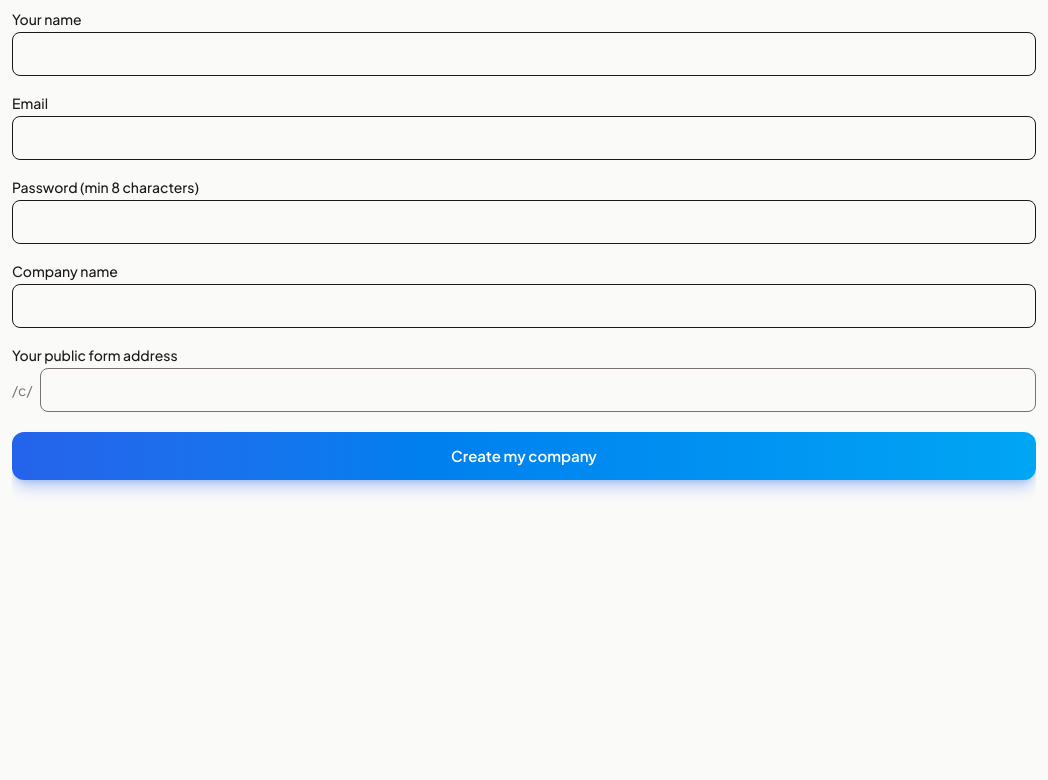
it: forms recover from a network failure › SignupForm
This screenshot has width=1048, height=780.
Type "Eren" into the field labelled "Your name". click: (524, 54)
box: left=12, top=32, right=1036, bottom=76
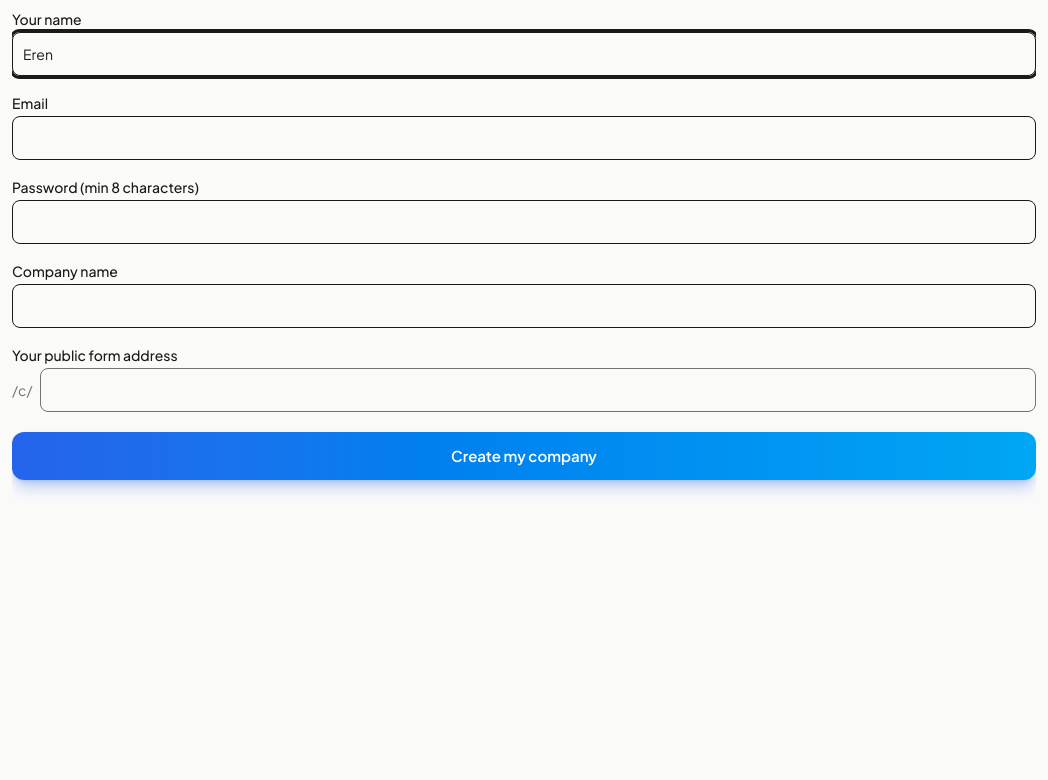
Type "e@x.com" into the field labelled "Email". click: (524, 138)
box: left=12, top=116, right=1036, bottom=160
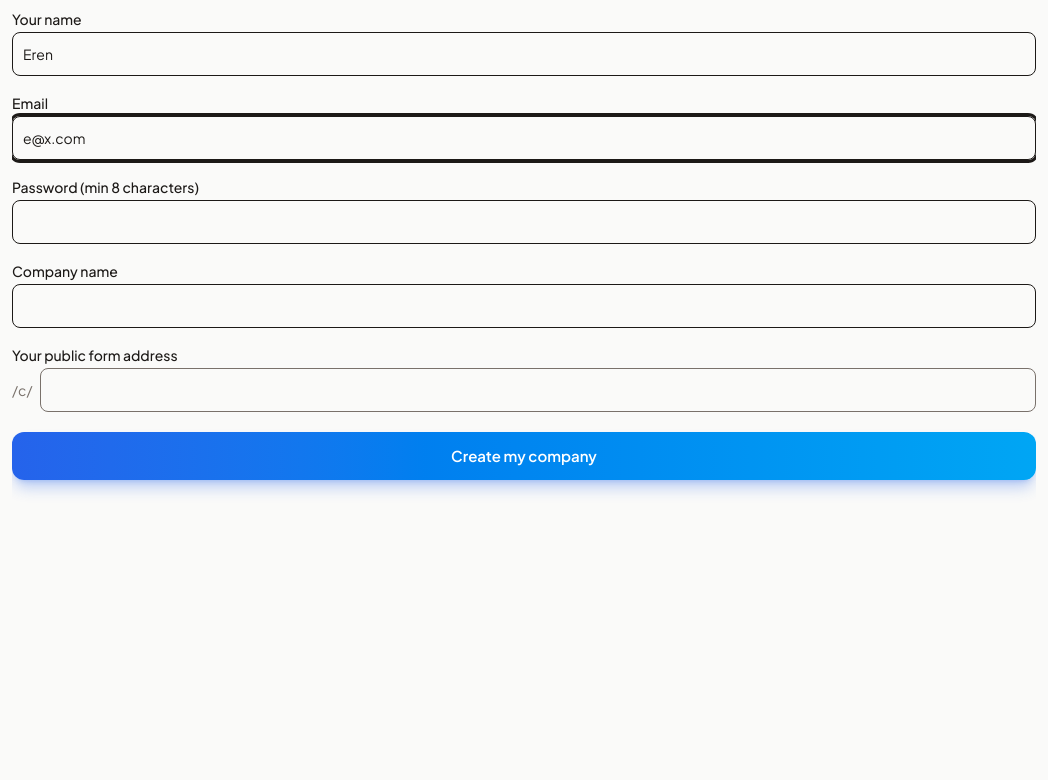
Type "password123" into the password field labelled "Password (min 8 characters)". click: (524, 222)
box: left=12, top=200, right=1036, bottom=244
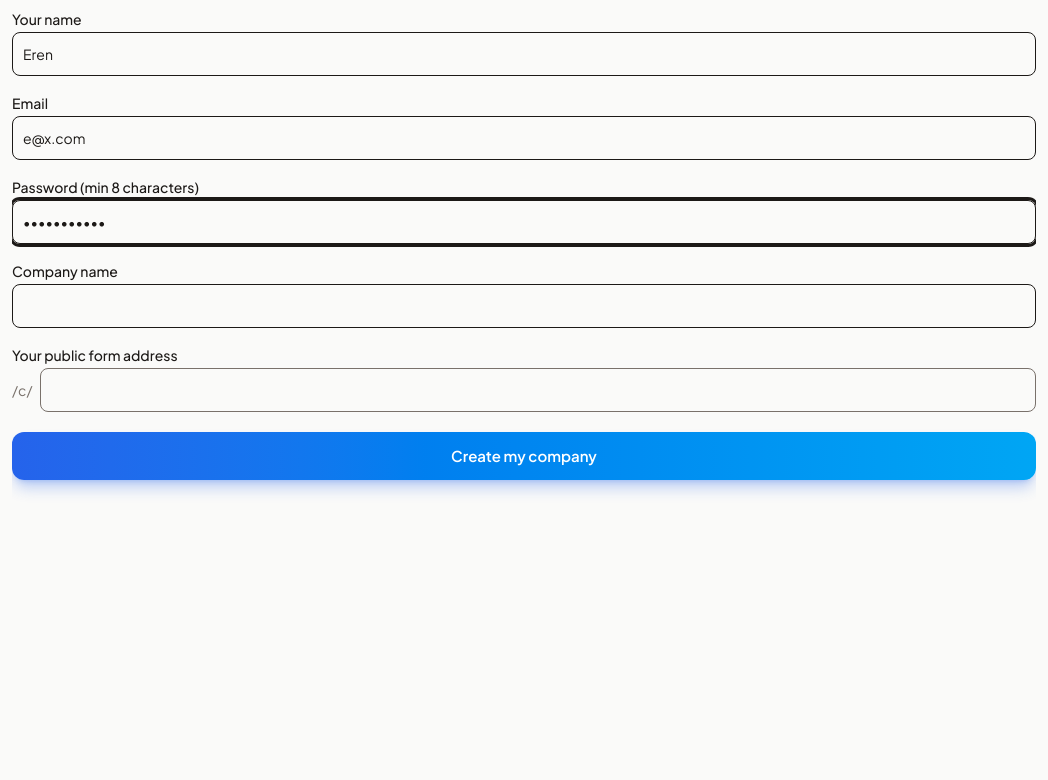
Type "Acme" into the field labelled "Company name". click: (524, 306)
box: left=12, top=284, right=1036, bottom=328
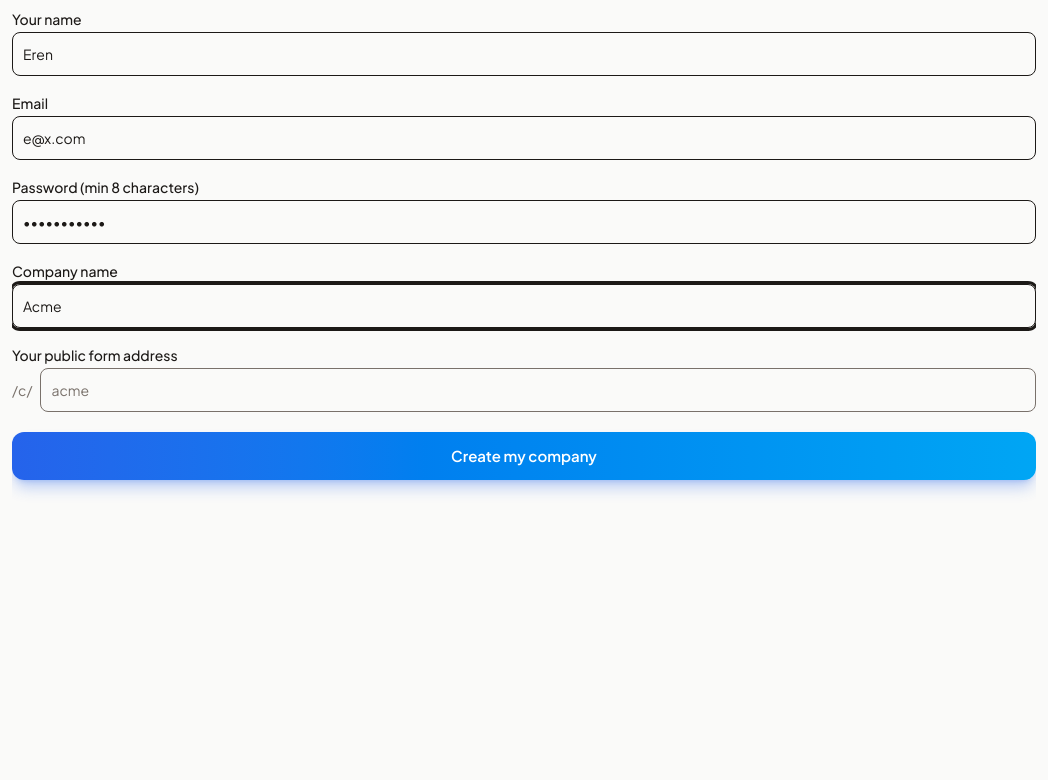
Click the button "Create my company". click: (524, 456)
box: left=12, top=432, right=1036, bottom=480
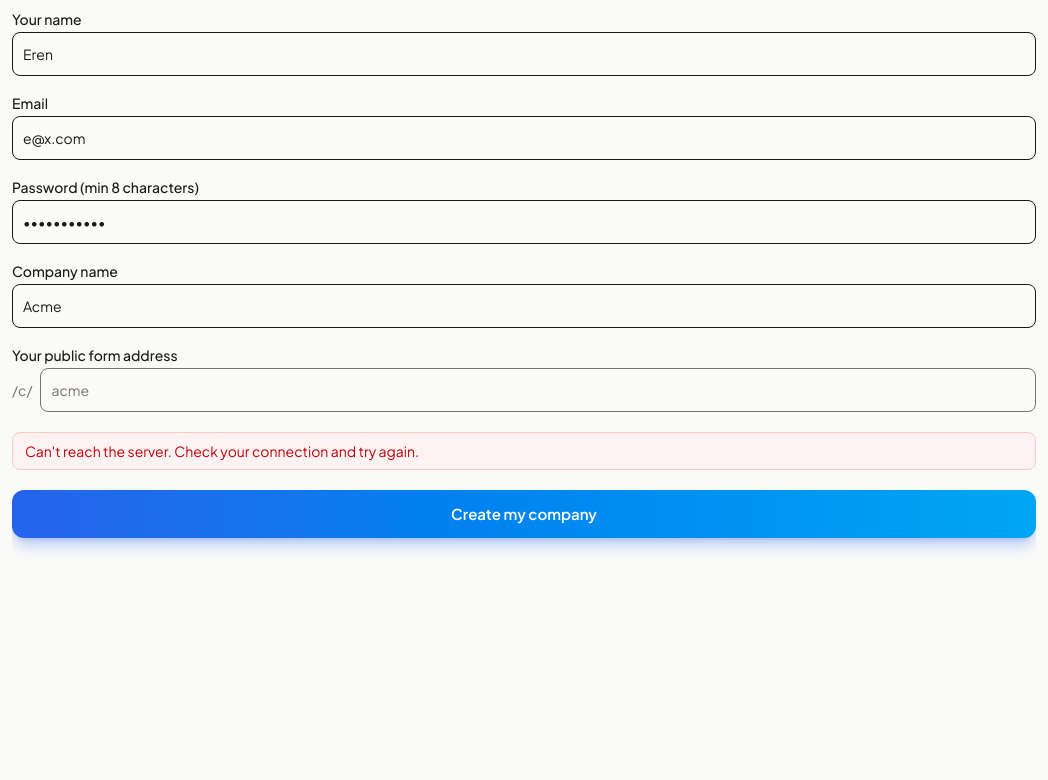
expect the button "Create my company" is enabled: met, box left=12, top=490, right=1036, bottom=538
expect the message shows "Can't reach the server": met, box left=25, top=442, right=419, bottom=460
